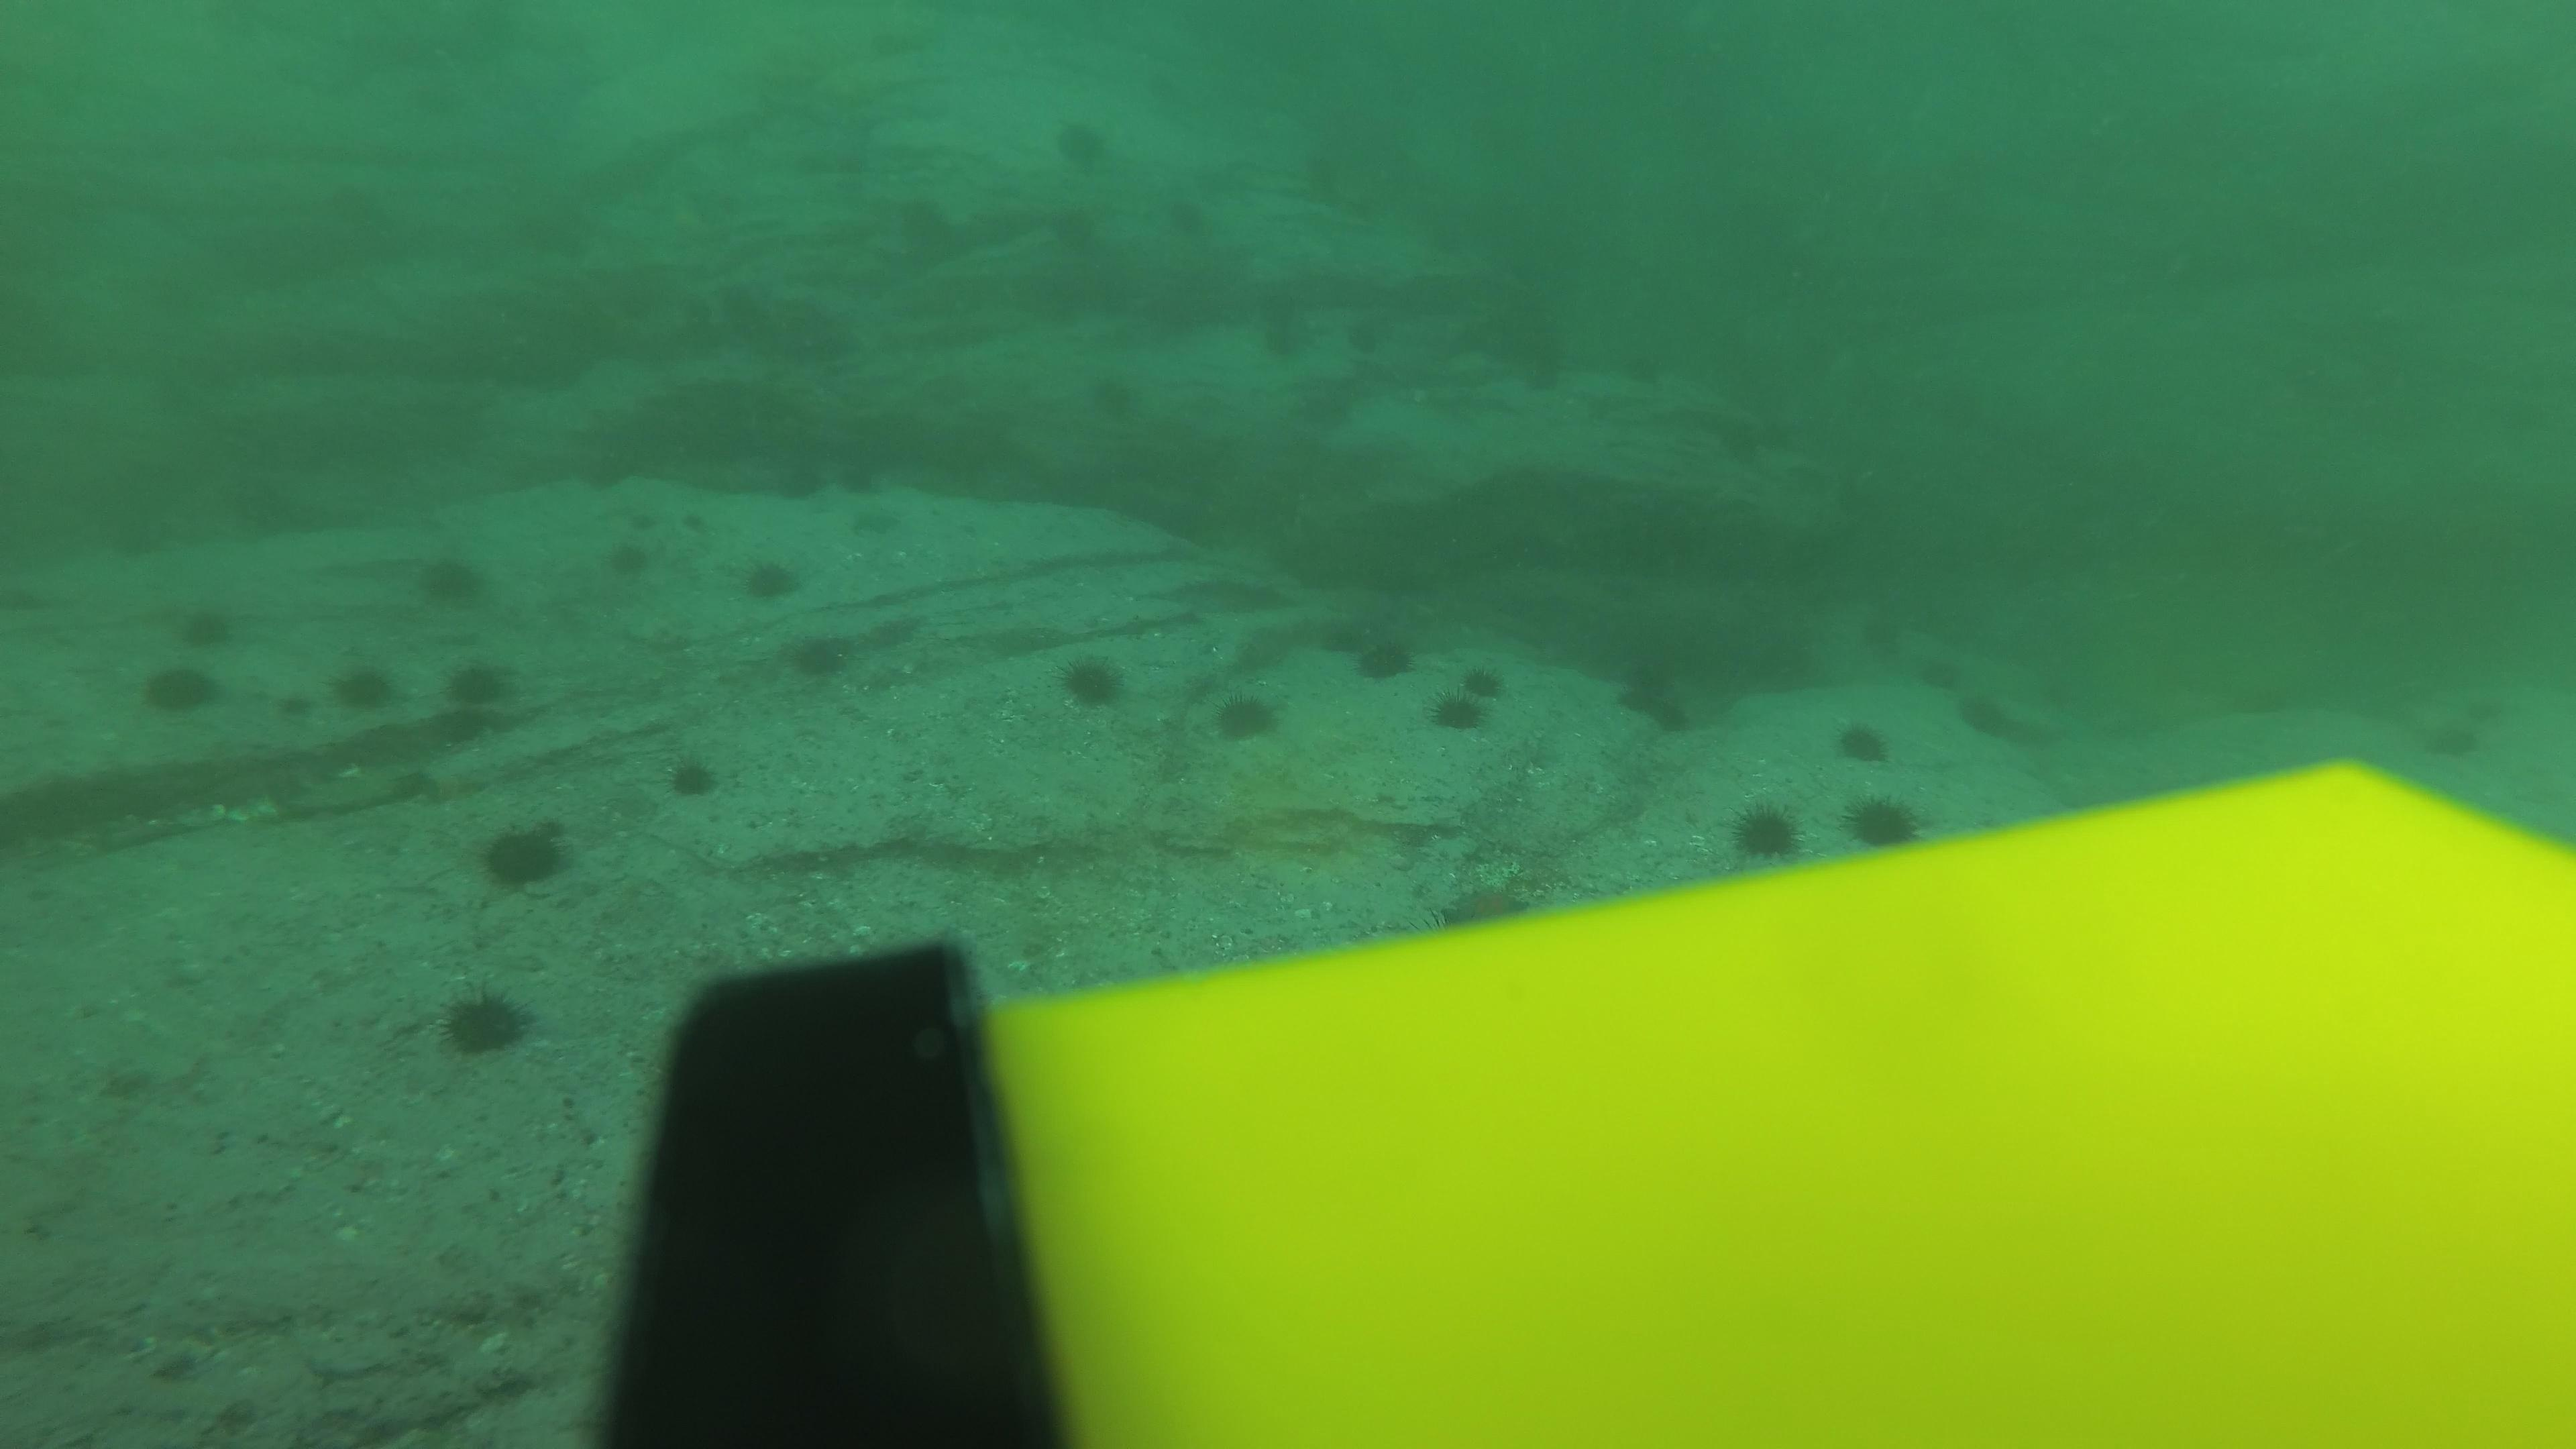echinus: (472, 812, 575, 897), (433, 980, 536, 1065), (435, 655, 522, 734), (134, 655, 225, 724), (1725, 796, 1808, 869), (409, 543, 494, 614), (1840, 789, 1928, 856), (1051, 648, 1132, 717), (1207, 683, 1286, 748), (1346, 623, 1421, 688), (326, 655, 400, 717), (782, 626, 856, 688), (170, 594, 242, 653), (1049, 111, 1115, 175), (736, 550, 807, 607), (1074, 370, 1145, 426), (660, 747, 725, 805), (575, 444, 635, 501), (1831, 713, 1893, 768), (1955, 686, 2017, 741), (600, 527, 660, 582), (1424, 688, 1484, 738), (1451, 649, 1511, 699), (1502, 350, 1564, 396), (1845, 612, 1902, 660), (830, 455, 888, 501), (771, 462, 833, 502), (1054, 200, 1104, 246), (1161, 195, 1210, 235), (1253, 287, 1304, 326), (1338, 317, 1384, 357), (1629, 662, 1677, 699), (1619, 679, 1668, 715), (1256, 327, 1302, 364), (1651, 699, 1695, 736), (1621, 352, 1665, 389), (1713, 435, 1757, 472), (1918, 656, 1962, 692), (1743, 412, 1787, 448), (1421, 221, 1465, 257)
starfish: (844, 495, 908, 543)
